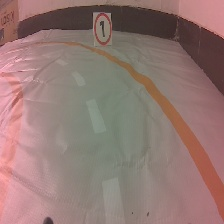limit: (91, 10, 115, 47)
